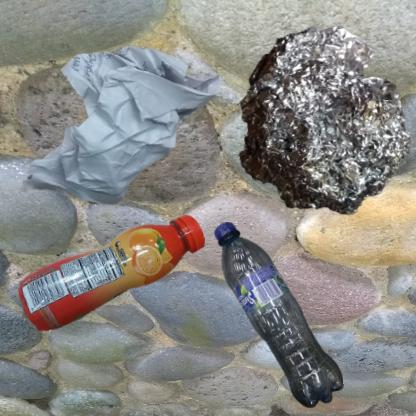aluminio: (213, 10, 416, 246)
botella: (10, 213, 226, 341), (213, 213, 349, 416)
papel: (10, 10, 252, 278)
